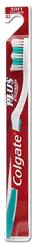grozi_103: (2, 5, 31, 243)
